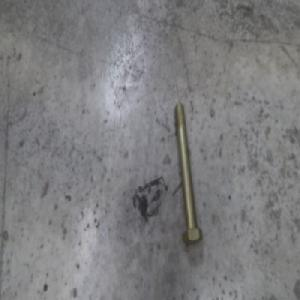Bolt: (167, 100, 196, 242)
